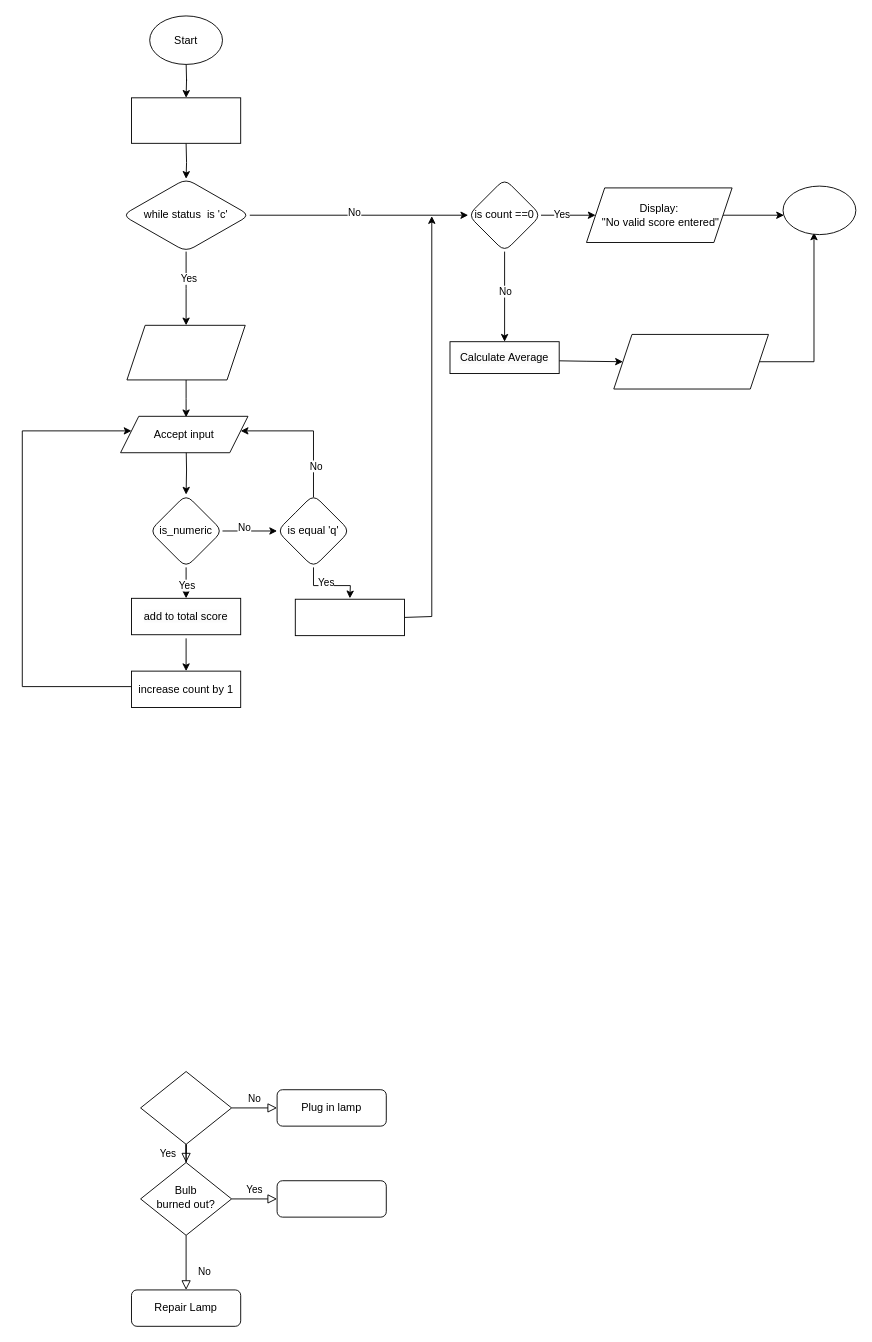
This 872x1342 diagram has some shape labels left out. Here are the shapes that lost their labels. From the top down, the centre of each, then its label:
pixel 186 120: Initialise Variables: status, total_score, count
pixel 819 210: End
pixel 185 352: Display: "Enter score run:"
pixel 690 361: Display: "Average runs scored is: "+ average
pixel 349 617: set status = 'q'
pixel 186 1107: Lamp plugged in?
pixel 331 1198: Replace Bulb
